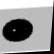correct: (2, 16, 36, 45)
